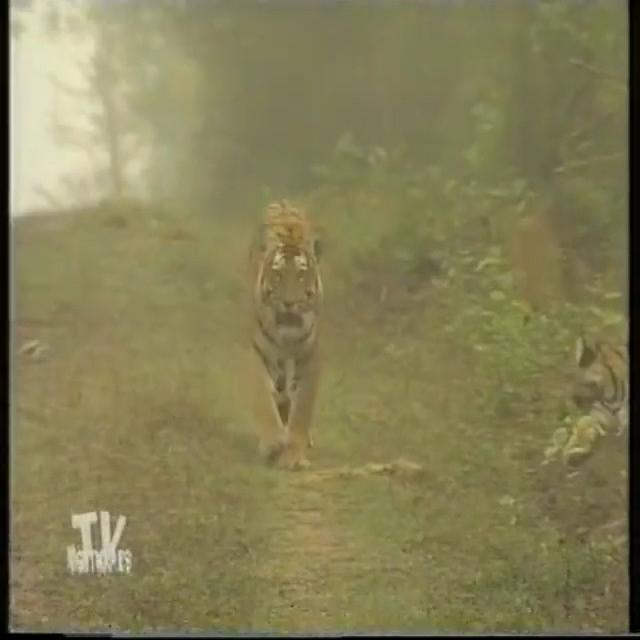TIGER: (239, 192, 333, 467)
